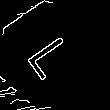L_NE: (23, 29, 83, 83)
